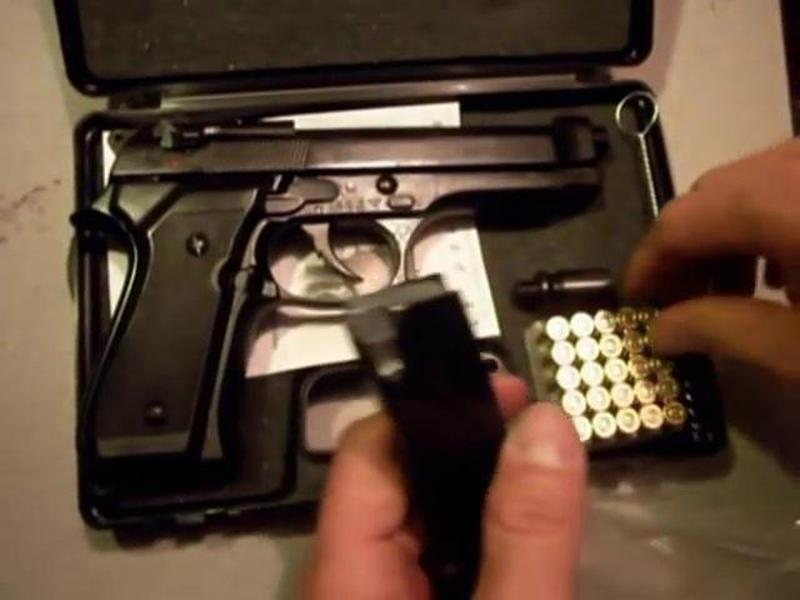Pistola: (75, 98, 611, 494)
